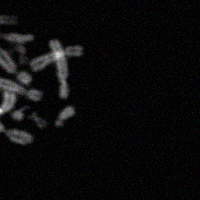chromosome: (30, 45, 82, 70), (0, 44, 31, 83), (49, 39, 68, 98), (0, 74, 40, 101), (0, 120, 33, 145), (0, 87, 16, 122), (0, 29, 34, 43), (55, 107, 75, 127), (29, 111, 46, 128), (17, 45, 29, 66), (0, 14, 16, 25), (13, 109, 23, 120)
